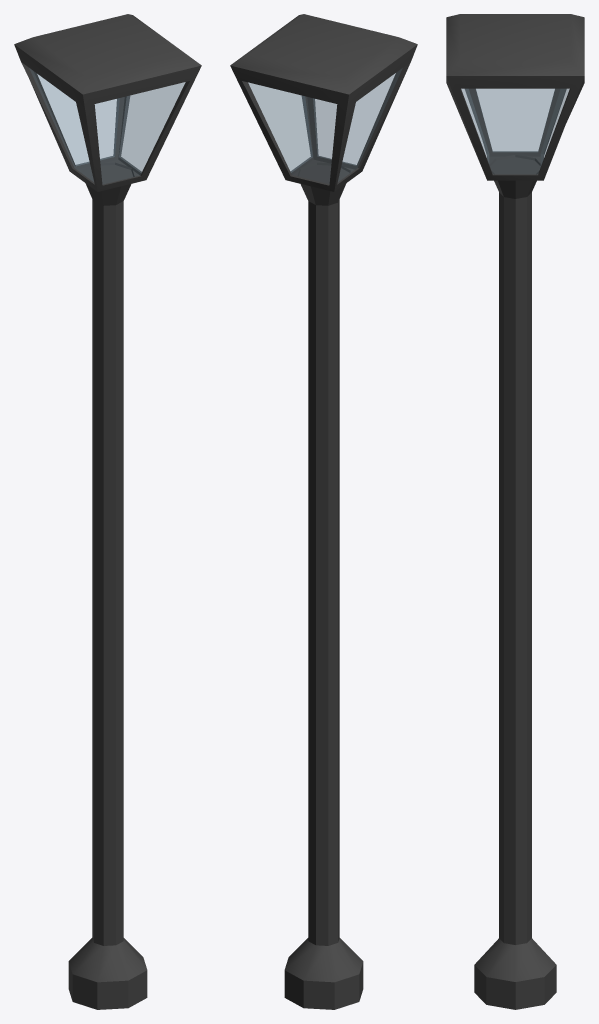
The model's file is street__lamp.fbx.
The picture shows the model from 3 angles, left to right: view 1: azimuth 30°, elevation 25°; view 2: azimuth 150°, elevation 25°; view 3: azimuth 270°, elevation 25°; orthographic projection.
Visible parts, largest first — view 1: light_lamp; view 2: light_lamp; view 3: light_lamp.
Part boxes in pixels (left/top/right/bottom): light_lamp: left=14, top=14, right=201, bottom=1009; light_lamp: left=230, top=14, right=417, bottom=1009; light_lamp: left=446, top=14, right=584, bottom=1009.
Size of the model in its own units: 0.4323 by 3.29 by 0.4323.
